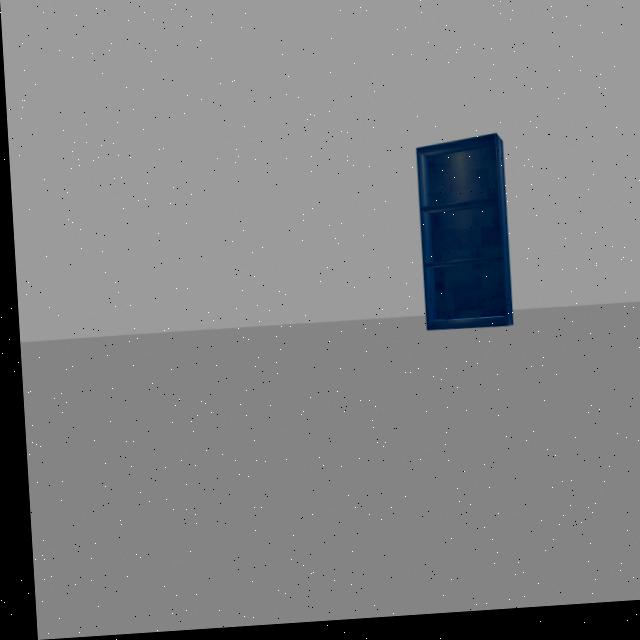shelf: (398, 126, 529, 363)
